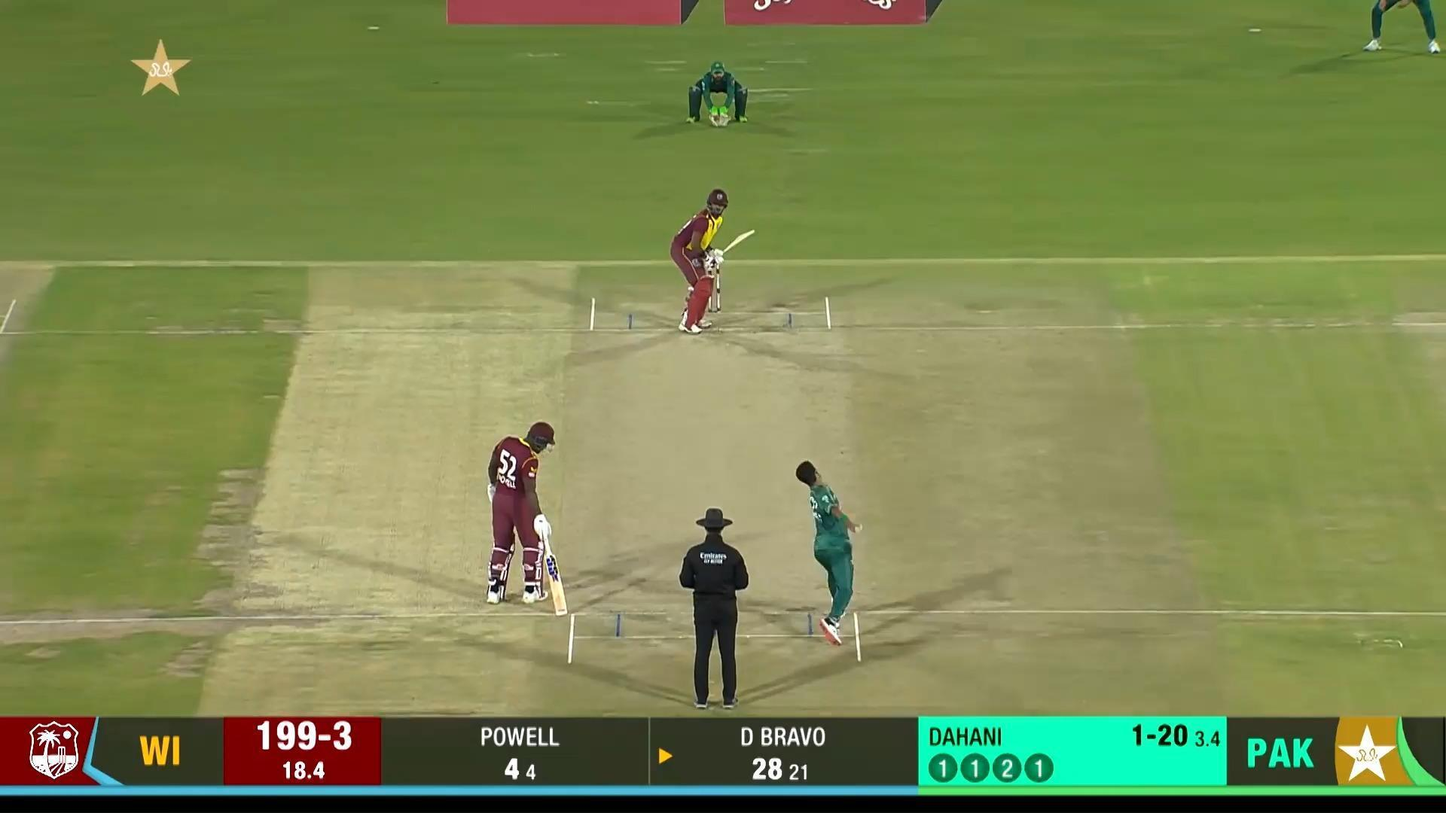BM 1: (670, 189, 756, 335)
BO: (794, 459, 861, 648)
